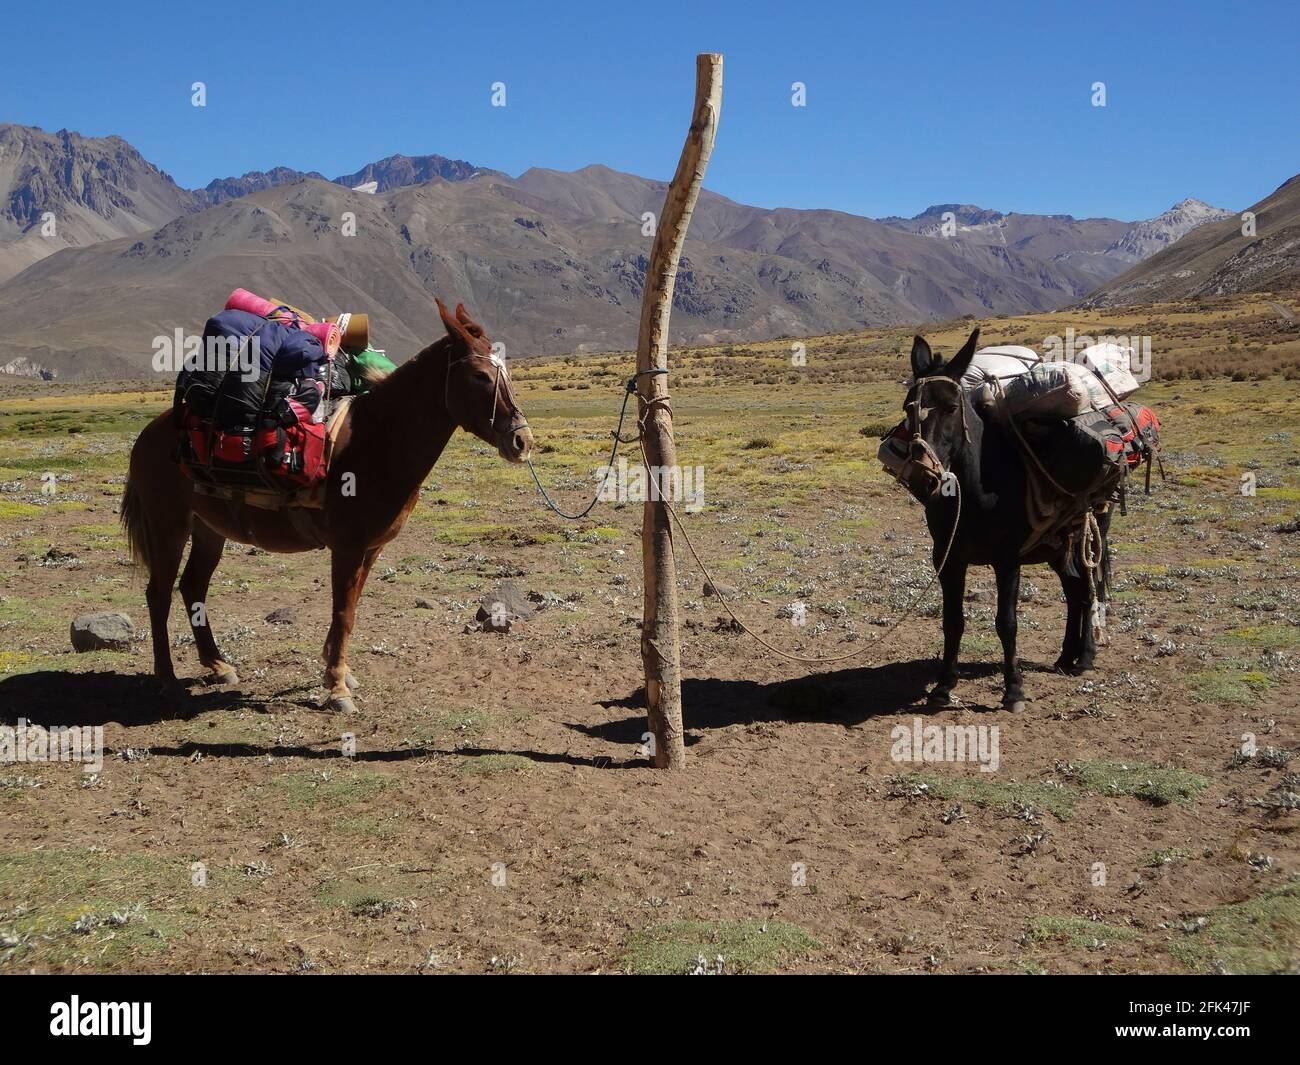equine: (99, 274, 575, 744), (865, 326, 1222, 722)
